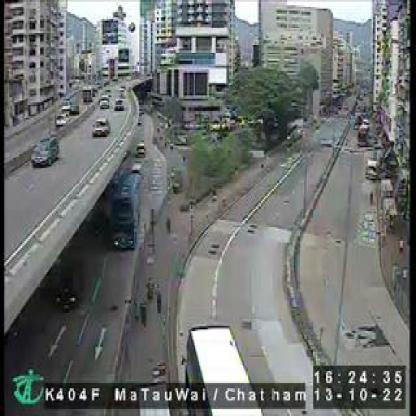Bus: (185, 321, 261, 407), (109, 175, 142, 252)
Car: (31, 132, 62, 169), (92, 117, 109, 136), (54, 113, 67, 128), (136, 142, 146, 157), (100, 93, 109, 108), (131, 162, 142, 174), (115, 98, 125, 111)
